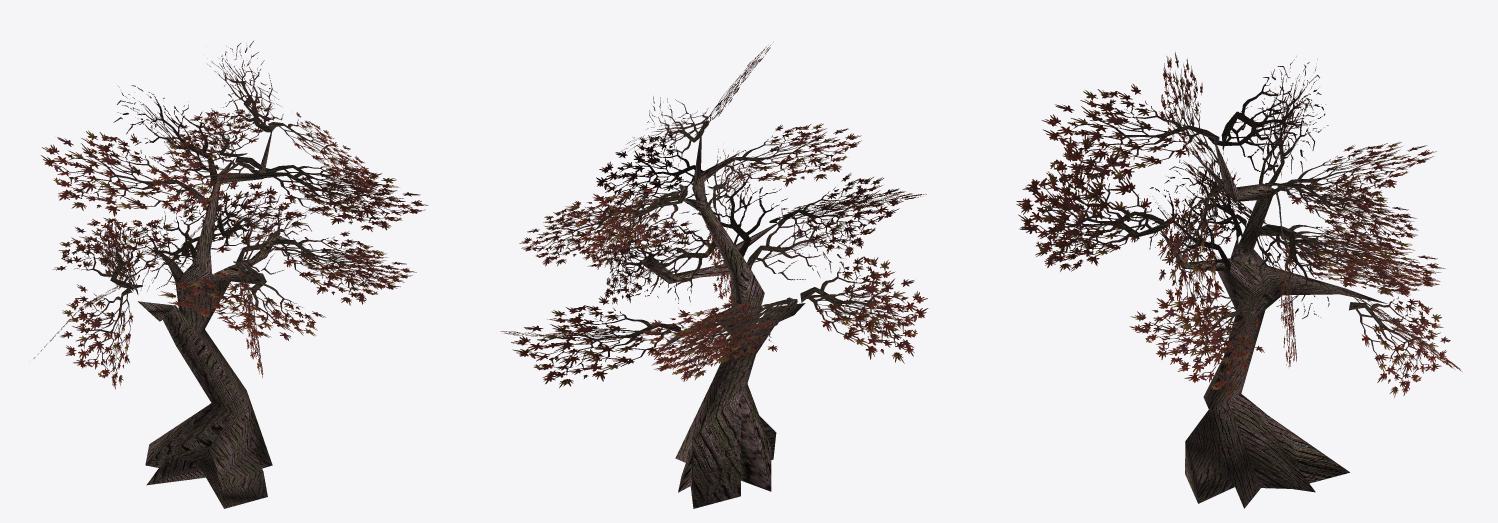
The model's file is decd_dath_blacktree_a1_l2.fbx.
3 views of the same model, side by side, from view 1: azimuth 30°, elevation 25°; view 2: azimuth 150°, elevation 25°; view 3: azimuth 270°, elevation 25° (orthographic). The views are drawn at different scales.
Parts seen in each view (by area): view 1: mesh_node; view 2: mesh_node; view 3: mesh_node.
Boxes of the visible parts, <box> form: mesh_node: <box>33,41,428,508</box>; mesh_node: <box>500,45,928,508</box>; mesh_node: <box>1016,52,1461,508</box>.
Bounding box in the file's own units: 15.97 × 15.32 × 15.56.
